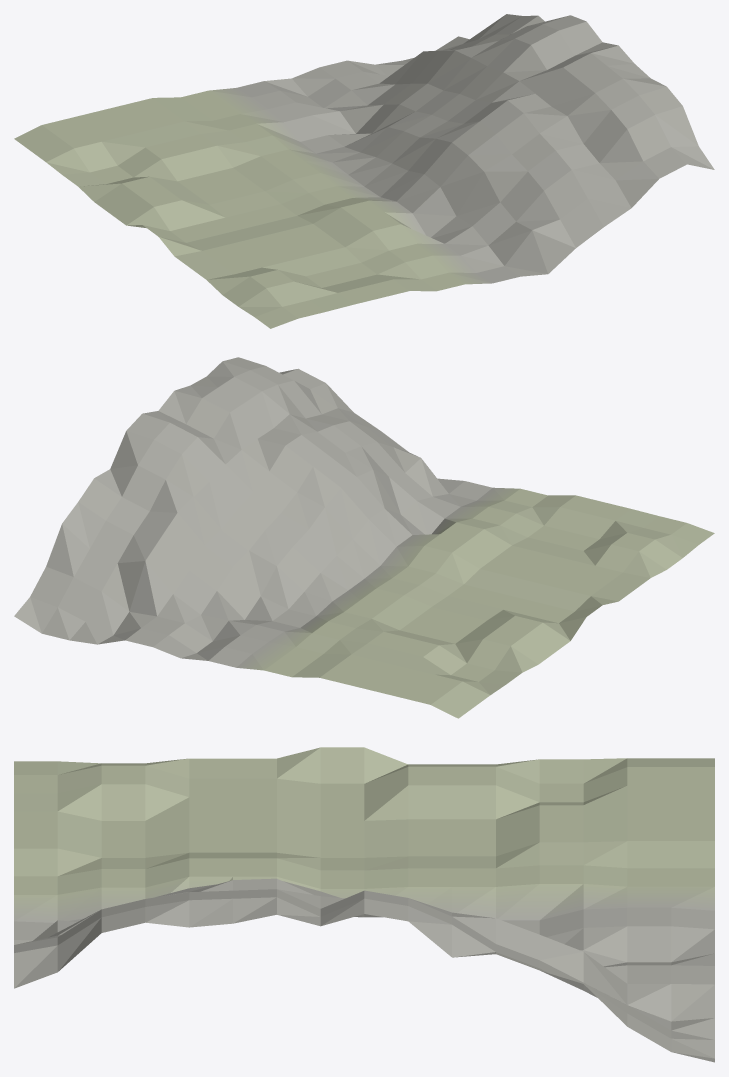
3 views of the same model, one above another, from view 1: azimuth 30°, elevation 25°; view 2: azimuth 150°, elevation 25°; view 3: azimuth 270°, elevation 25° (orthographic). The views are drawn at different scales.
Bounding box in the file's own units: 32 × 8.22 × 32.
